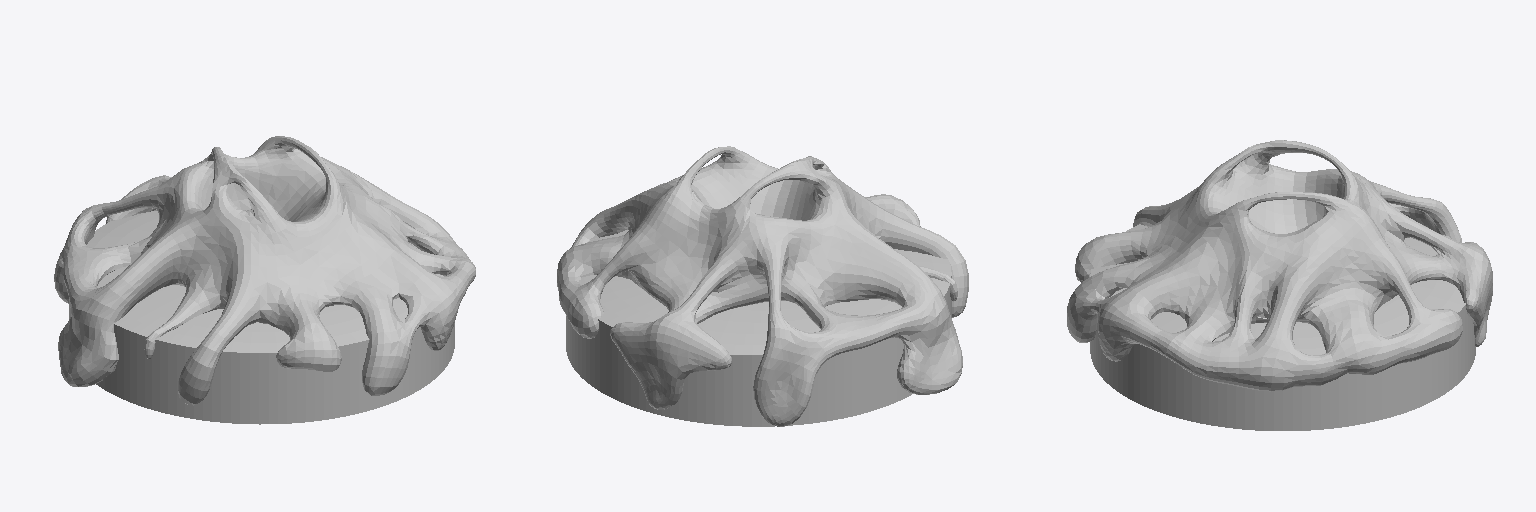
Rendered from Laser_Blob8MOOVE.OBJ.
3 renders of one model, left to right at view 1: azimuth 30°, elevation 25°; view 2: azimuth 150°, elevation 25°; view 3: azimuth 270°, elevation 25°, orthographic.
Visible parts, largest first — view 1: Group19573, Group36291; view 2: Group19573, Group36291; view 3: Group19573, Group36291.
Part boxes in pixels (bbox=[...]): Group19573: bbox=[54, 136, 475, 405]; Group36291: bbox=[69, 211, 454, 424]; Group19573: bbox=[557, 146, 968, 426]; Group36291: bbox=[566, 230, 951, 426]; Group19573: bbox=[1067, 140, 1492, 391]; Group36291: bbox=[1090, 224, 1475, 430].
Size of the model in its own units: 5.66 by 2.92 by 5.53.